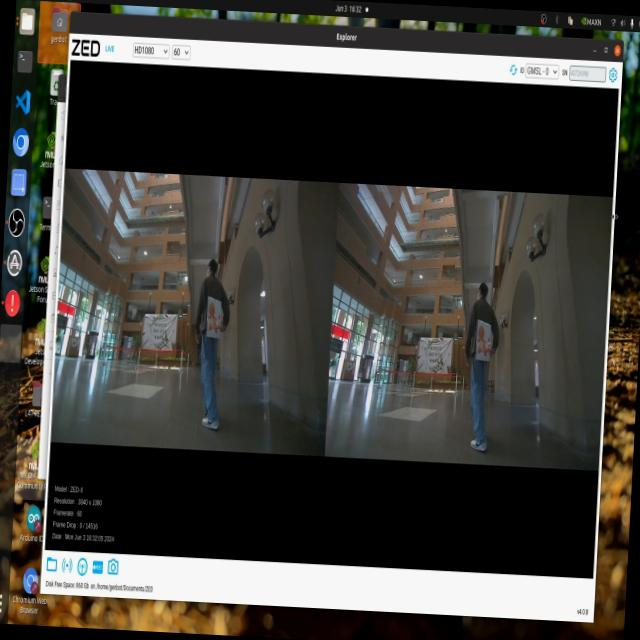red: (473, 326, 491, 362), (205, 296, 222, 332)
